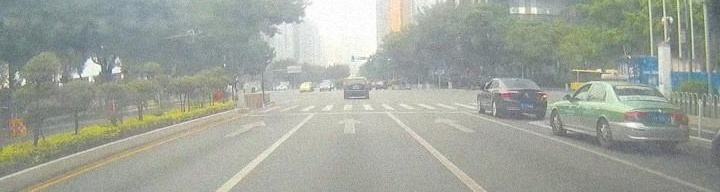L_light: (624, 112, 646, 121), (501, 92, 511, 98)
R_light: (673, 115, 688, 124), (538, 93, 547, 98)
T_light: (628, 85, 640, 89), (513, 80, 521, 82)
day-no: (611, 81, 689, 149)
day-right: (500, 78, 547, 117)
